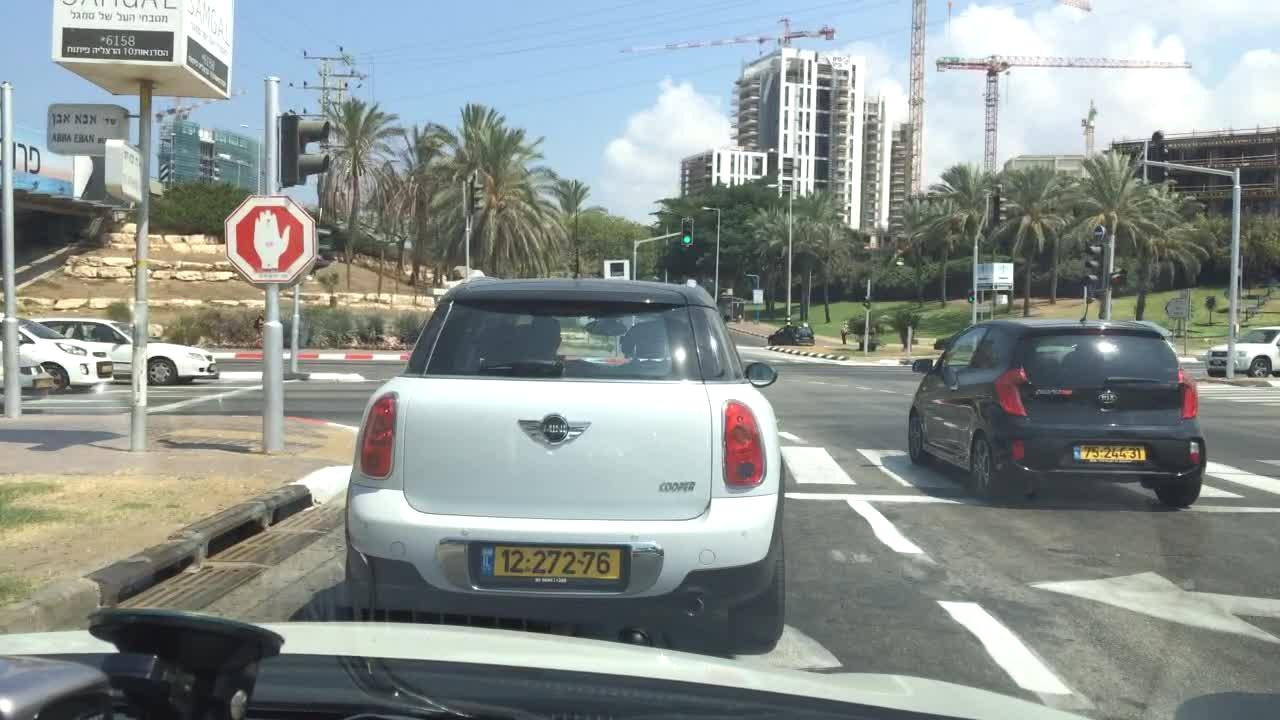kia: (1096, 389, 1122, 408)
mini: (516, 410, 594, 451)
